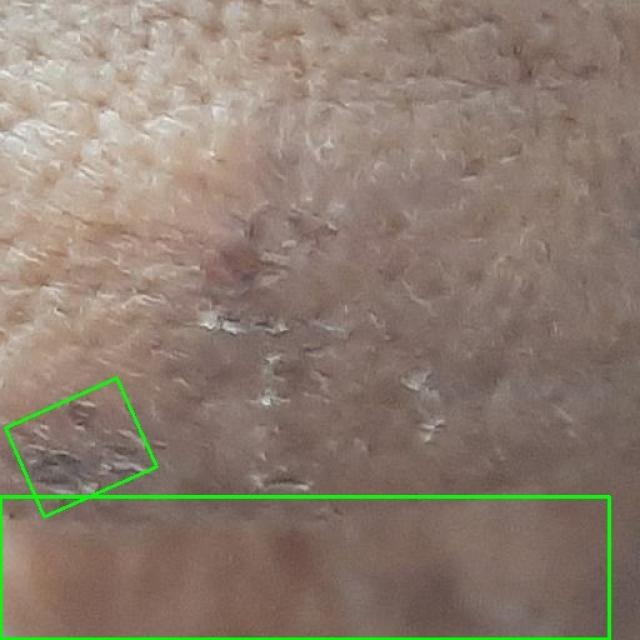Eczema: (0, 496, 609, 639), (6, 379, 156, 517)
